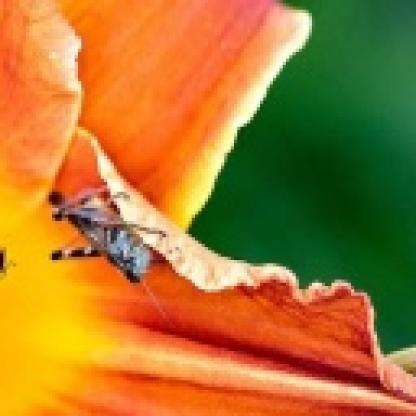grasshopper: (46, 179, 160, 287)
